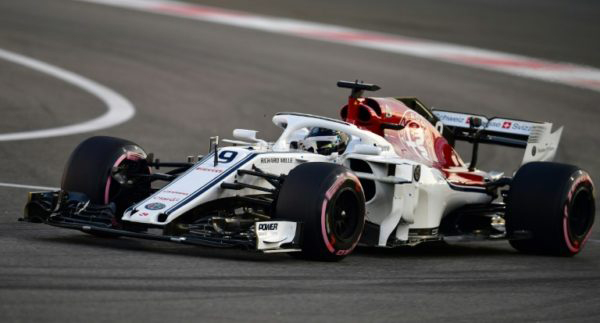F1 Car: (16, 77, 600, 264)
